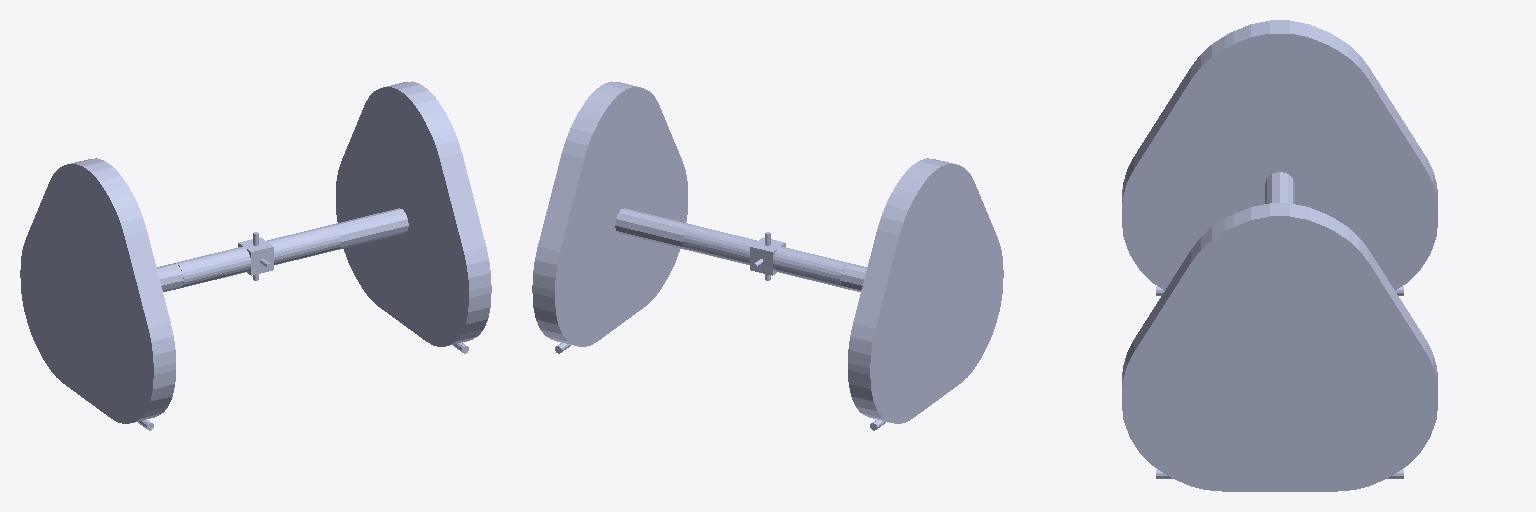
robot.urdf — 3D_ver5:
<?xml version="1.0" encoding="utf-8"?>
<!-- This URDF was automatically created by SolidWorks to URDF Exporter! Originally created by [author] ([email redacted]) 
     Commit Version: 1.6.0-1-g15f4949  Build Version: 1.6.7594.29634
     For more information, please see http://wiki.ros.org/sw_urdf_exporter -->
<robot
  name="3D_ver5">
  <link
    name="base">
    <inertial>
      <origin
        xyz="0.0774370333637908 -0.0148272437982761 0.0107177030271637"
        rpy="0 0 0" />
      <mass
        value="0.0794003271646727" />
      <inertia
        ixx="9.67652814264976E-05"
        ixy="-6.20691764647541E-12"
        ixz="2.46417753297686E-09"
        iyy="5.01282837289759E-05"
        iyz="-6.45218163573788E-11"
        izz="5.01019135277721E-05" />
    </inertial>
    <visual>
      <origin
        xyz="0 0 0"
        rpy="0 0 0" />
      <geometry>
        <mesh
          filename="package://3D_ver5/meshes/base.STL" />
      </geometry>
      <material
        name="">
        <color
          rgba="0.792156862745098 0.819607843137255 0.933333333333333 1" />
      </material>
    </visual>
    <collision>
      <origin
        xyz="0 0 0"
        rpy="0 0 0" />
      <geometry>
        <mesh
          filename="package://3D_ver5/meshes/base.STL" />
      </geometry>
    </collision>
  </link>
  <link
    name="wheel_backright">
    <inertial>
      <origin
        xyz="0 1.32992105255671E-06 -0.0025"
        rpy="0 0 0" />
      <mass
        value="0.00350282067053577" />
      <inertia
        ixx="2.06087238360483E-07"
        ixy="6.61744490042422E-24"
        ixz="-8.97912317528532E-23"
        iyy="2.06082586080934E-07"
        iyz="-5.06347288672329E-24"
        izz="3.97574738314184E-07" />
    </inertial>
    <visual>
      <origin
        xyz="0 0 0"
        rpy="0 0 0" />
      <geometry>
        <mesh
          filename="package://3D_ver5/meshes/wheel_backright.STL" />
      </geometry>
      <material
        name="">
        <color
          rgba="0.792156862745098 0.819607843137255 0.933333333333333 1" />
      </material>
    </visual>
    <collision>
      <origin
        xyz="0 0 0"
        rpy="0 0 0" />
      <geometry>
        <mesh
          filename="package://3D_ver5/meshes/wheel_backright.STL" />
      </geometry>
    </collision>
  </link>
  <joint
    name="wheel1"
    type="continuous">
    <origin
      xyz="0.078031 0.020173 -0.029026"
      rpy="1.5708 0.20072 0" />
    <parent
      link="base" />
    <child
      link="wheel_backright" />
    <axis
      xyz="0 0 1" />
  </joint>
  <link
    name="wheel_backleft">
    <inertial>
      <origin
        xyz="1.38777878078145E-17 1.32992105256885E-06 0.0025"
        rpy="0 0 0" />
      <mass
        value="0.00350282067053577" />
      <inertia
        ixx="2.06087238360483E-07"
        ixy="-3.01585796274245E-26"
        ixz="2.20581496680807E-24"
        iyy="2.06082586080933E-07"
        iyz="2.57679859743604E-27"
        izz="3.97574738314184E-07" />
    </inertial>
    <visual>
      <origin
        xyz="0 0 0"
        rpy="0 0 0" />
      <geometry>
        <mesh
          filename="package://3D_ver5/meshes/wheel_backleft.STL" />
      </geometry>
      <material
        name="">
        <color
          rgba="0.792156862745098 0.819607843137255 0.933333333333333 1" />
      </material>
    </visual>
    <collision>
      <origin
        xyz="0 0 0"
        rpy="0 0 0" />
      <geometry>
        <mesh
          filename="package://3D_ver5/meshes/wheel_backleft.STL" />
      </geometry>
    </collision>
  </link>
  <joint
    name="wheel2"
    type="continuous">
    <origin
      xyz="0.078031 -0.049827 -0.029026"
      rpy="1.5708 0 0" />
    <parent
      link="base" />
    <child
      link="wheel_backleft" />
    <axis
      xyz="0 0 1" />
  </joint>
  <link
    name="slide_back">
    <inertial>
      <origin
        xyz="0 -0.0511300493614309 1.73472347597681E-18"
        rpy="0 0 0" />
      <mass
        value="0.00279336263712055" />
      <inertia
        ixx="3.49420107139763E-07"
        ixy="-1.40169368654197E-24"
        ixz="-1.08380297120834E-24"
        iyy="3.99316347503689E-08"
        iyz="6.36720012593853E-25"
        izz="3.47148573143988E-07" />
    </inertial>
    <visual>
      <origin
        xyz="0 0 0"
        rpy="0 0 0" />
      <geometry>
        <mesh
          filename="package://3D_ver5/meshes/slide_back.STL" />
      </geometry>
      <material
        name="">
        <color
          rgba="0.792156862745098 0.819607843137255 0.933333333333333 1" />
      </material>
    </visual>
    <collision>
      <origin
        xyz="0 0 0"
        rpy="0 0 0" />
      <geometry>
        <mesh
          filename="package://3D_ver5/meshes/slide_back.STL" />
      </geometry>
    </collision>
  </link>
  <joint
    name="slide1"
    type="prismatic">
    <origin
      xyz="0.076031 -0.014827 0.01077"
      rpy="3.1416 0 1.5708" />
    <parent
      link="base" />
    <child
      link="slide_back" />
    <axis
      xyz="0 -1 0" />
    <limit
      lower="-0.05"
      upper="0.05"
      effort="0"
      velocity="0" />
  </joint>
  <link
    name="universal_pin">
    <inertial>
      <origin
        xyz="1.73472347597681E-18 1.92840416031459E-09 1.92840416204931E-09"
        rpy="0 0 0" />
      <mass
        value="0.000271492148155946" />
      <inertia
        ixx="5.93557661395574E-09"
        ixy="4.47220671611109E-15"
        ixz="-4.47220671610245E-15"
        iyy="3.20070578284845E-09"
        iyz="1.00973907919734E-21"
        izz="3.20070578284845E-09" />
    </inertial>
    <visual>
      <origin
        xyz="0 0 0"
        rpy="0 0 0" />
      <geometry>
        <mesh
          filename="package://3D_ver5/meshes/universal_pin.STL" />
      </geometry>
      <material
        name="">
        <color
          rgba="0.792156862745098 0.819607843137255 0.933333333333333 1" />
      </material>
    </visual>
    <collision>
      <origin
        xyz="0 0 0"
        rpy="0 0 0" />
      <geometry>
        <mesh
          filename="package://3D_ver5/meshes/universal_pin.STL" />
      </geometry>
    </collision>
  </link>
  <joint
    name="yaw"
    type="revolute">
    <origin
      xyz="0 -0.068 0"
      rpy="-1.5708 0 1.5708" />
    <parent
      link="slide_back" />
    <child
      link="universal_pin" />
    <axis
      xyz="0 -1 0" />
    <limit
      lower="-1.5708"
      upper="1.5708"
      effort="0"
      velocity="0" />
  </joint>
  <link
    name="slide_front">
    <inertial>
      <origin
        xyz="-0.0168699506385691 -3.46944695195361E-18 -1.73472347597681E-18"
        rpy="0 0 0" />
      <mass
        value="0.00279336263712055" />
      <inertia
        ixx="3.99316347503688E-08"
        ixy="-1.20671180287115E-23"
        ixz="-7.04239362856635E-24"
        iyy="3.49420107139763E-07"
        iyz="3.32528416177765E-25"
        izz="3.47148573143988E-07" />
    </inertial>
    <visual>
      <origin
        xyz="0 0 0"
        rpy="0 0 0" />
      <geometry>
        <mesh
          filename="package://3D_ver5/meshes/slide_front.STL" />
      </geometry>
      <material
        name="">
        <color
          rgba="0.792156862745098 0.819607843137255 0.933333333333333 1" />
      </material>
    </visual>
    <collision>
      <origin
        xyz="0 0 0"
        rpy="0 0 0" />
      <geometry>
        <mesh
          filename="package://3D_ver5/meshes/slide_front.STL" />
      </geometry>
    </collision>
  </link>
  <joint
    name="pitch"
    type="revolute">
    <origin
      xyz="0 0 0"
      rpy="0 0 0" />
    <parent
      link="universal_pin" />
    <child
      link="slide_front" />
    <axis
      xyz="0 0 -1" />
    <limit
      lower="-1.5708"
      upper="1.5708"
      effort="0"
      velocity="0" />
  </joint>
  <link
    name="head">
    <inertial>
      <origin
        xyz="-2.36024512798722E-08 -0.00140649770513428 -5.25015313334876E-05"
        rpy="0 0 0" />
      <mass
        value="0.0794003271646726" />
      <inertia
        ixx="5.01282837289755E-05"
        ixy="5.0032368183784E-12"
        ixz="-6.4521752771985E-11"
        iyy="9.67652814264978E-05"
        iyz="-2.46417753456018E-09"
        izz="5.0101913527772E-05" />
    </inertial>
    <visual>
      <origin
        xyz="0 0 0"
        rpy="0 0 0" />
      <geometry>
        <mesh
          filename="package://3D_ver5/meshes/head.STL" />
      </geometry>
      <material
        name="">
        <color
          rgba="0.792156862745098 0.819607843137255 0.933333333333333 1" />
      </material>
    </visual>
    <collision>
      <origin
        xyz="0 0 0"
        rpy="0 0 0" />
      <geometry>
        <mesh
          filename="package://3D_ver5/meshes/head.STL" />
      </geometry>
    </collision>
  </link>
  <joint
    name="slide2"
    type="prismatic">
    <origin
      xyz="-0.068 0 0"
      rpy="1.5708 -1.5708 3.1416" />
    <parent
      link="slide_front" />
    <child
      link="head" />
    <axis
      xyz="0 1 0" />
    <limit
      lower="-0.05"
      upper="0.05"
      effort="0"
      velocity="0" />
  </joint>
  <link
    name="wheel_frontright">
    <inertial>
      <origin
        xyz="0 1.32992105256538E-06 -0.0025"
        rpy="0 0 0" />
      <mass
        value="0.00350282067053577" />
      <inertia
        ixx="2.06087238360483E-07"
        ixy="-4.18535380566756E-25"
        ixz="-3.48012588067524E-26"
        iyy="2.06082586080934E-07"
        iyz="3.58767719199359E-27"
        izz="3.97574738314184E-07" />
    </inertial>
    <visual>
      <origin
        xyz="0 0 0"
        rpy="0 0 0" />
      <geometry>
        <mesh
          filename="package://3D_ver5/meshes/wheel_frontright.STL" />
      </geometry>
      <material
        name="">
        <color
          rgba="0.792156862745098 0.819607843137255 0.933333333333333 1" />
      </material>
    </visual>
    <collision>
      <origin
        xyz="0 0 0"
        rpy="0 0 0" />
      <geometry>
        <mesh
          filename="package://3D_ver5/meshes/wheel_frontright.STL" />
      </geometry>
    </collision>
  </link>
  <joint
    name="wheel3"
    type="continuous">
    <origin
      xyz="-0.035 -0.002 -0.039796"
      rpy="1.5708 0 1.5708" />
    <parent
      link="head" />
    <child
      link="wheel_frontright" />
    <axis
      xyz="0 0 1" />
  </joint>
  <link
    name="wheel_frontleft">
    <inertial>
      <origin
        xyz="0 1.32992105256191E-06 0.0025"
        rpy="0 0 0" />
      <mass
        value="0.00350282067053577" />
      <inertia
        ixx="2.06087238360483E-07"
        ixy="-4.18409322258589E-25"
        ixz="2.15409644911464E-24"
        iyy="2.06082586080933E-07"
        iyz="7.90160970766145E-27"
        izz="3.97574738314184E-07" />
    </inertial>
    <visual>
      <origin
        xyz="0 0 0"
        rpy="0 0 0" />
      <geometry>
        <mesh
          filename="package://3D_ver5/meshes/wheel_frontleft.STL" />
      </geometry>
      <material
        name="">
        <color
          rgba="0.792156862745098 0.819607843137255 0.933333333333333 1" />
      </material>
    </visual>
    <collision>
      <origin
        xyz="0 0 0"
        rpy="0 0 0" />
      <geometry>
        <mesh
          filename="package://3D_ver5/meshes/wheel_frontleft.STL" />
      </geometry>
    </collision>
  </link>
  <joint
    name="wheel4"
    type="continuous">
    <origin
      xyz="0.035 -0.002 -0.039796"
      rpy="1.5708 0 1.5708" />
    <parent
      link="head" />
    <child
      link="wheel_frontleft" />
    <axis
      xyz="0 0 1" />
  </joint>
</robot>

--- What the picture shows (computed from the rendered views, not written in the file) ---
The picture shows the robot from 3 angles, left to right: view 1: azimuth 30°, elevation 25°; view 2: azimuth 150°, elevation 25°; view 3: azimuth 270°, elevation 25°; orthographic projection.
Robot: 3D_ver5 — 9 links, 8 joints (2 revolute, 4 continuous, 2 prismatic); root link base; default pose: every joint at zero.
Visible links, largest first — view 1: head, base, slide_front, slide_back; view 2: head, base, slide_front, slide_back; view 3: base, head.
Boxes of the visible links, left/top/right/bottom form: head: left=20, top=158, right=183, bottom=430; base: left=332, top=81, right=491, bottom=353; slide_front: left=175, top=244, right=273, bottom=287; slide_back: left=238, top=225, right=340, bottom=275; head: left=840, top=158, right=1003, bottom=430; base: left=532, top=81, right=691, bottom=353; slide_front: left=750, top=237, right=848, bottom=287; slide_back: left=683, top=225, right=782, bottom=275; base: left=1122, top=203, right=1437, bottom=491; head: left=1122, top=20, right=1437, bottom=295.
Bounding box of the posed robot: 0.15 × 0.1025 × 0.0982 m (x, y, z).
Meshes: 9 distinct files referenced, 5 mesh visuals loaded (5 binary STL); not drawn: 4 (reference not matched to a file when rendering).